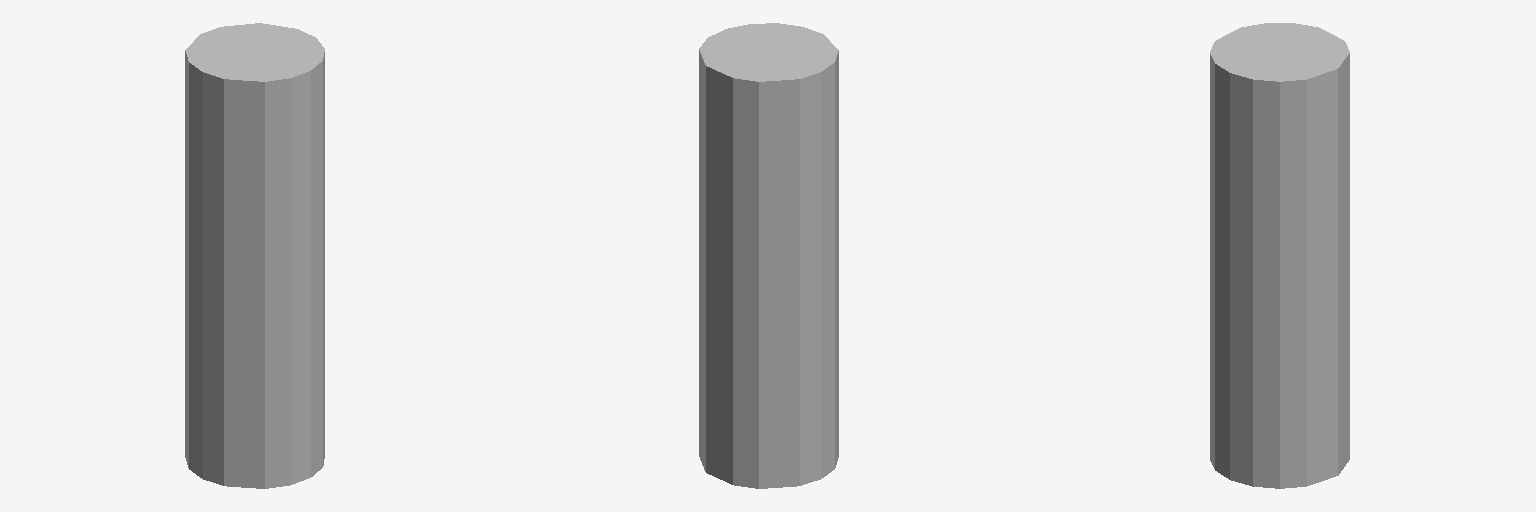
Rendered from pillar.obj.
3 views of the same model, side by side, from view 1: azimuth 30°, elevation 25°; view 2: azimuth 150°, elevation 25°; view 3: azimuth 270°, elevation 25° (orthographic).
Parts seen in each view (by area): view 1: pillar_Circle.002; view 2: pillar_Circle.002; view 3: pillar_Circle.002.
Part boxes in pixels (x1,y1,x2,y2): pillar_Circle.002: (185, 23, 324, 488); pillar_Circle.002: (699, 23, 838, 488); pillar_Circle.002: (1210, 23, 1349, 488).
Bounding box in the file's own units: 9.9 × 32 × 10.